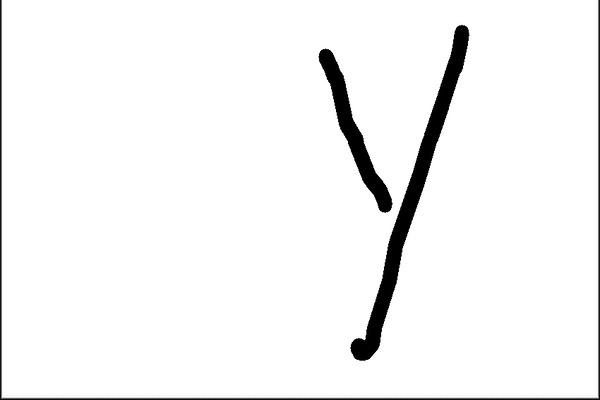Y: (295, 17, 503, 369)
